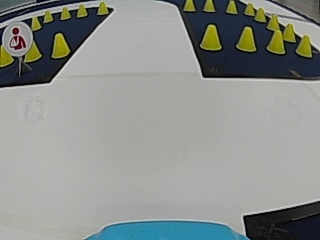cone: (200, 24, 222, 51), (237, 26, 257, 52), (51, 32, 69, 58), (268, 30, 285, 54), (24, 39, 42, 61), (296, 35, 312, 57), (0, 45, 13, 65), (266, 14, 280, 30), (284, 23, 295, 41), (96, 1, 108, 15), (76, 4, 88, 17), (31, 16, 42, 30), (254, 7, 265, 21), (183, 0, 195, 12), (203, 0, 215, 12), (60, 7, 71, 20), (226, 1, 237, 14), (244, 3, 255, 15), (43, 10, 53, 22)
patient: (2, 22, 32, 55)
